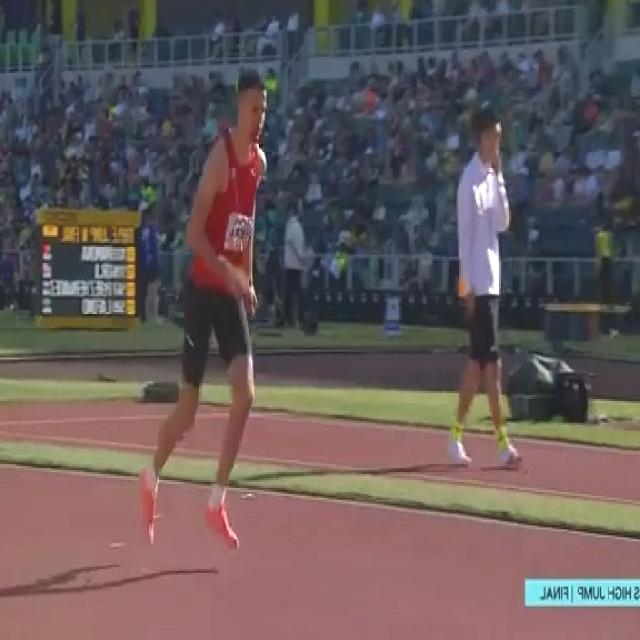run: (132, 62, 271, 557)
